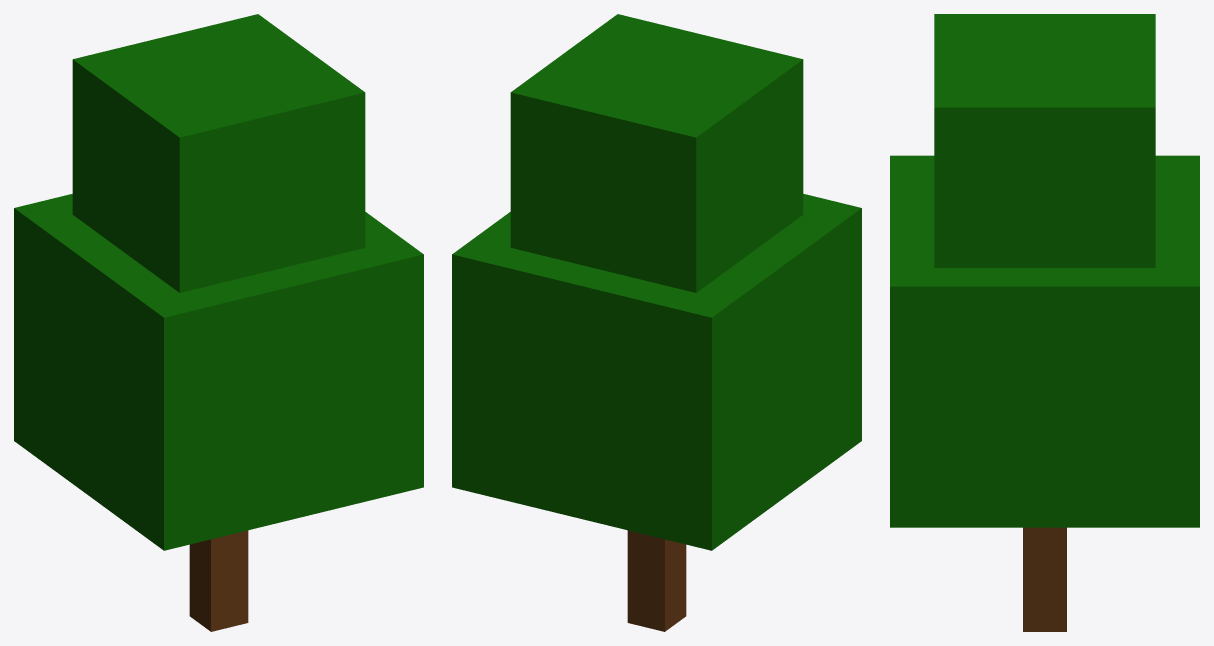
File: Pine Tree(2) (Stage4).obj
3 views of the same model, side by side, from view 1: azimuth 30°, elevation 25°; view 2: azimuth 150°, elevation 25°; view 3: azimuth 270°, elevation 25° (orthographic). The views are drawn at different scales.
Size of the model in its own units: 0.7 by 1.4 by 0.7.
Materials: 1 (1 with a texture image).
